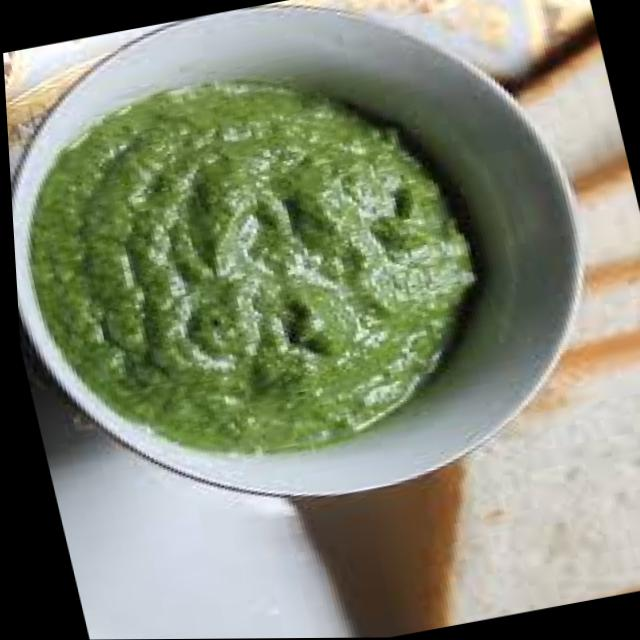GREEN CHUTNEY: (20, 78, 476, 461)
